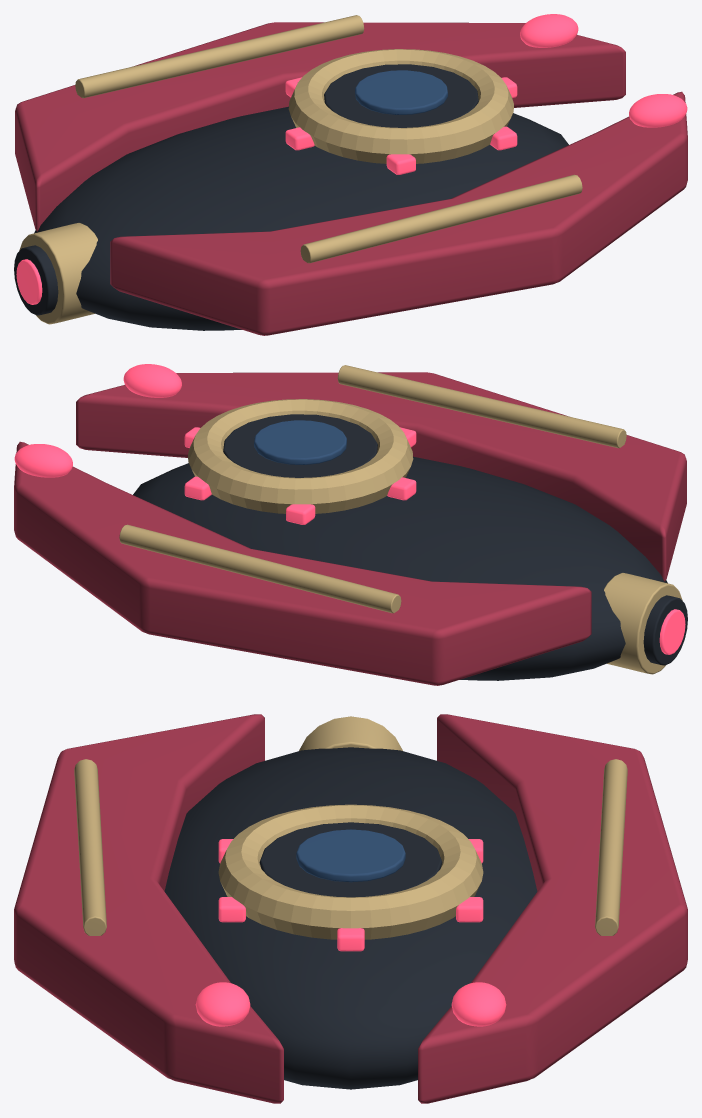
Rendered from abductor-v3.glb.
3 views of the same model, one above another, from view 1: azimuth 30°, elevation 25°; view 2: azimuth 150°, elevation 25°; view 3: azimuth 270°, elevation 25° (orthographic). The views are drawn at different scales.
Parts seen in each view (by area): view 1: curved capture mandible, lenticular pressure shell, curved capture mandible.001, tractor iris collar, claw alloy edge.001, claw alloy edge, tractor iris black well, main drive collar, tractor optical core, capture claw lens, capture claw lens.001, drive recessed throat (+4 smaller); view 2: curved capture mandible.001, lenticular pressure shell, curved capture mandible, tractor iris collar, claw alloy edge, claw alloy edge.001, tractor iris black well, main drive collar, tractor optical core, capture claw lens.001, capture claw lens, drive recessed throat (+4 smaller); view 3: lenticular pressure shell, curved capture mandible, curved capture mandible.001, tractor iris collar, tractor iris black well, tractor optical core, claw alloy edge, claw alloy edge.001, main drive collar, capture claw lens, capture claw lens.001, iris actuator (+2 smaller).
Boxes of the visible parts, x1,y1,x2,y2 form: curved capture mandible: (110, 91, 687, 335); lenticular pressure shell: (34, 106, 568, 330); curved capture mandible.001: (15, 22, 625, 231); tractor iris collar: (288, 49, 513, 163); claw alloy edge.001: (75, 15, 364, 98); claw alloy edge: (300, 174, 582, 263); tractor iris black well: (324, 64, 478, 127); main drive collar: (19, 223, 97, 324); tractor optical core: (355, 70, 447, 114); capture claw lens: (629, 94, 687, 127); capture claw lens.001: (520, 14, 578, 47); drive recessed throat: (14, 245, 58, 315); curved capture mandible.001: (14, 441, 591, 685); lenticular pressure shell: (133, 456, 667, 680); curved capture mandible: (76, 372, 686, 581); tractor iris collar: (188, 399, 413, 513); claw alloy edge: (337, 365, 626, 448); claw alloy edge.001: (119, 524, 401, 613); tractor iris black well: (223, 414, 377, 477); main drive collar: (604, 573, 682, 674); tractor optical core: (254, 420, 346, 464); capture claw lens.001: (14, 444, 72, 477); capture claw lens: (123, 364, 181, 397); drive recessed throat: (643, 595, 687, 665); lenticular pressure shell: (164, 747, 537, 1089); curved capture mandible: (14, 714, 283, 1103); curved capture mandible.001: (418, 714, 687, 1103); tractor iris collar: (218, 804, 483, 939); tractor iris black well: (259, 822, 442, 897); tractor optical core: (296, 829, 405, 882); claw alloy edge: (74, 759, 106, 935); claw alloy edge.001: (595, 759, 627, 935); main drive collar: (299, 716, 402, 750); capture claw lens: (195, 982, 250, 1026); capture claw lens.001: (451, 982, 506, 1026); iris actuator: (337, 928, 364, 951).
Size of the model in its own units: 93.08 by 24.5 by 73.76.
